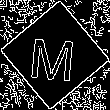M_N: (29, 28, 81, 82)
